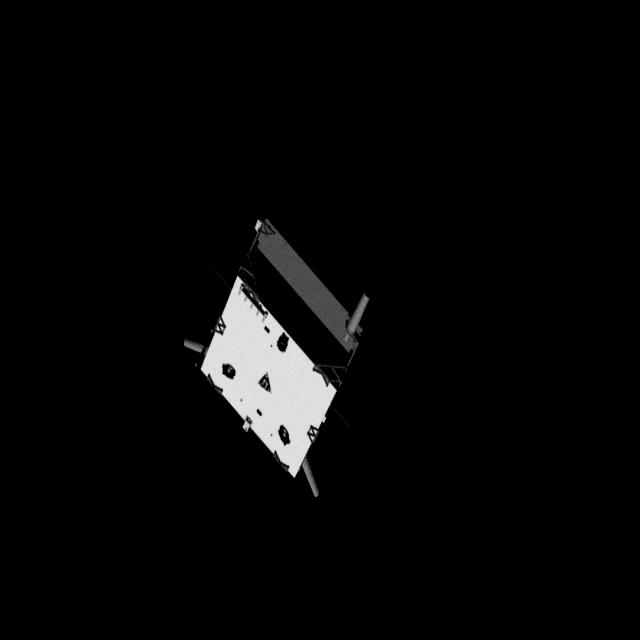medium_debris: (180, 214, 378, 506)
